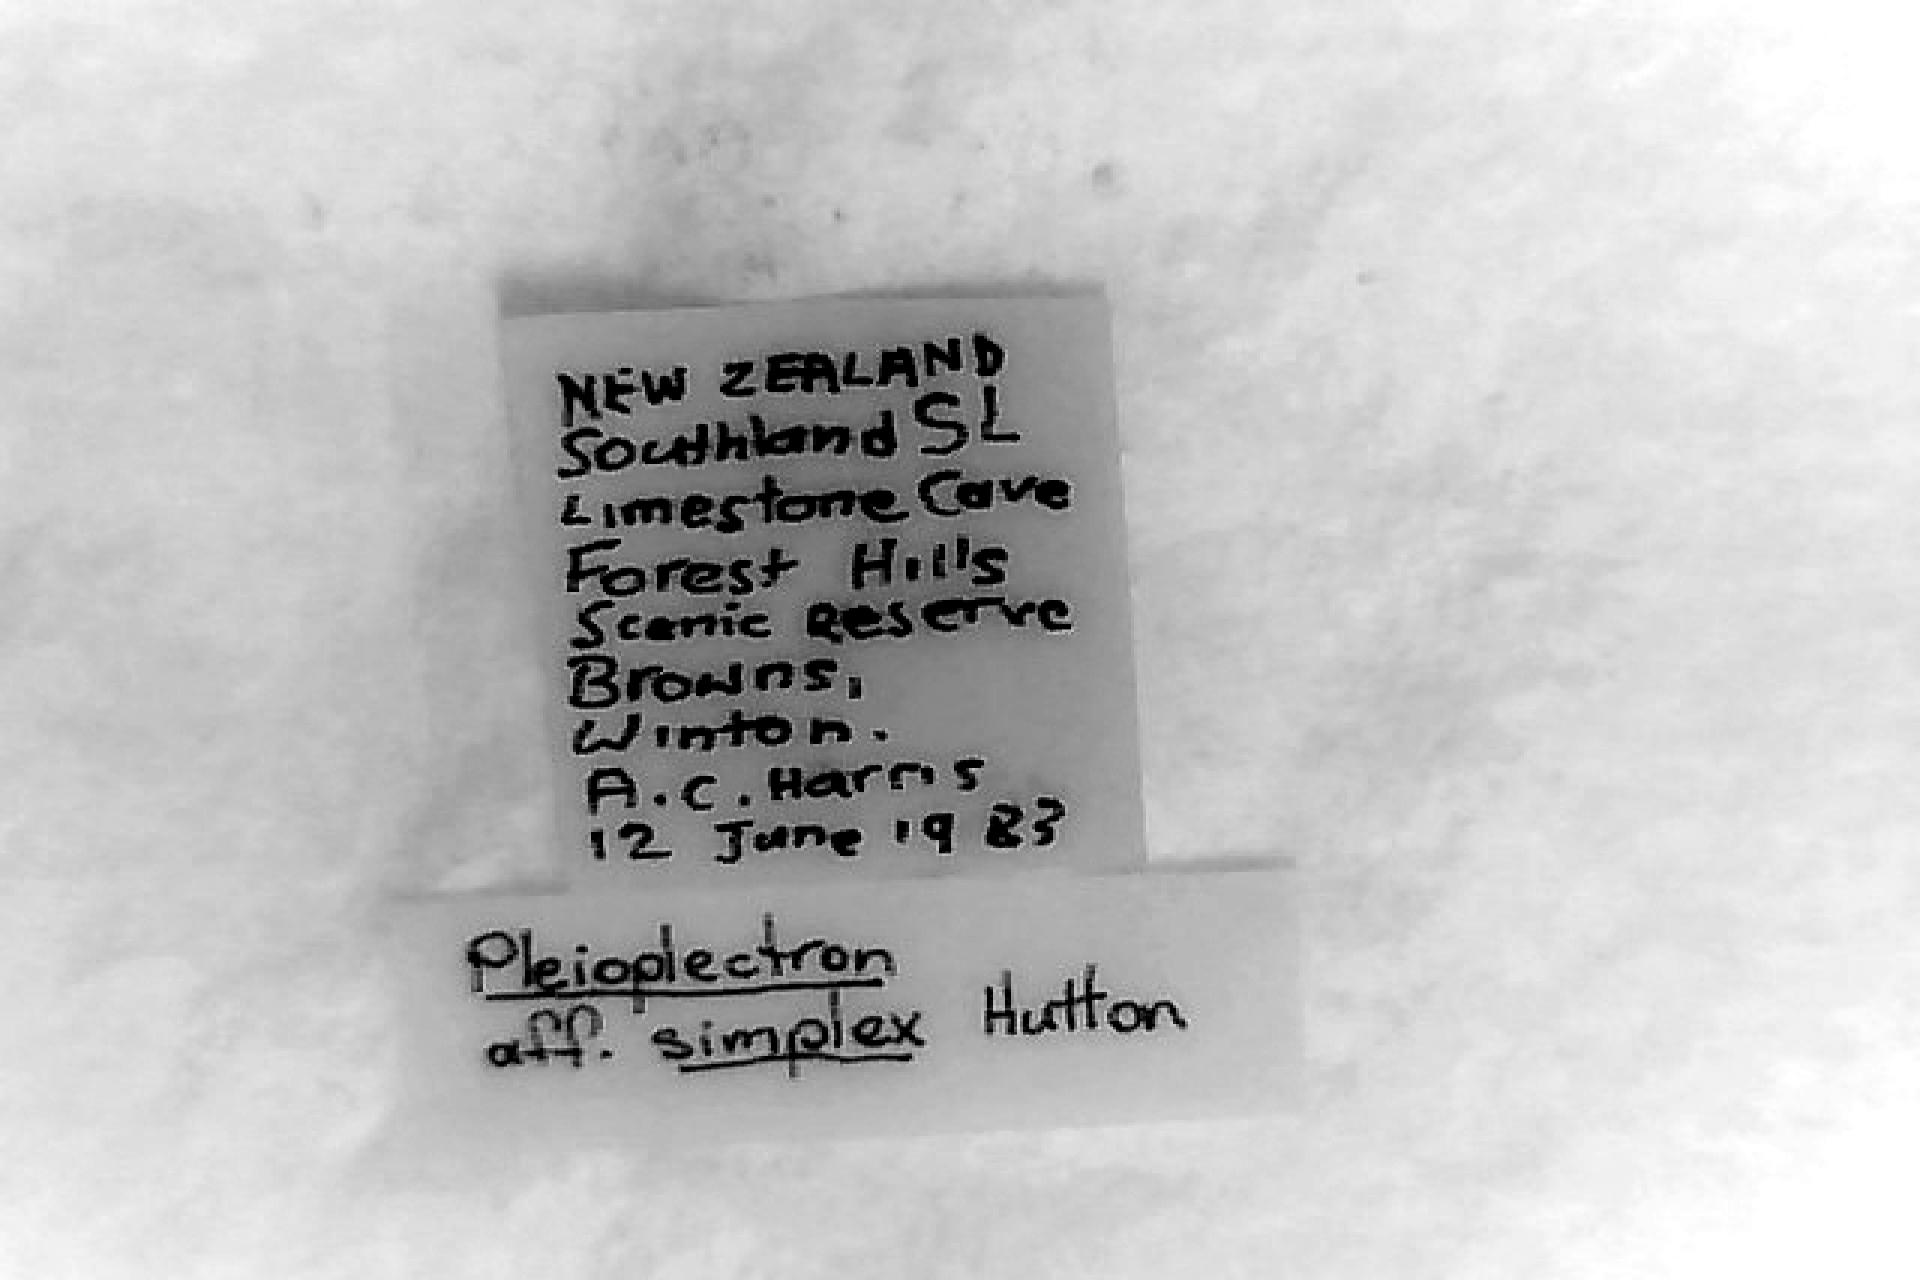hand_label: (510, 297, 1140, 883), (405, 870, 1301, 1150)
